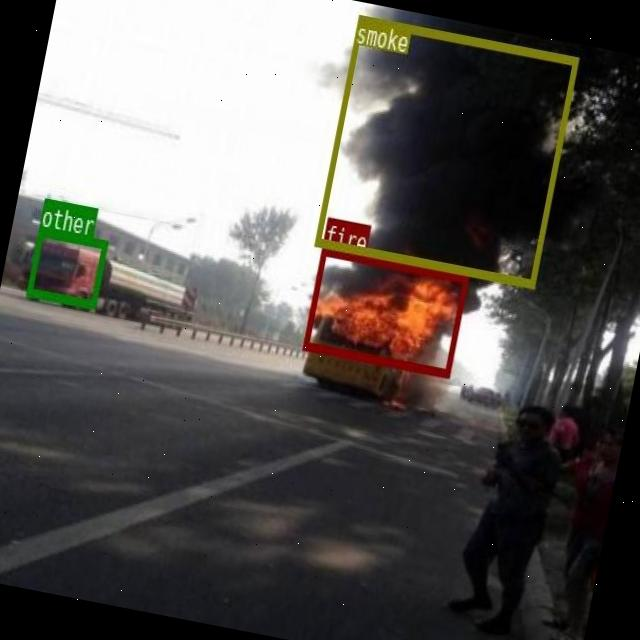fire: (302, 246, 468, 377)
smoke: (314, 14, 578, 288)
